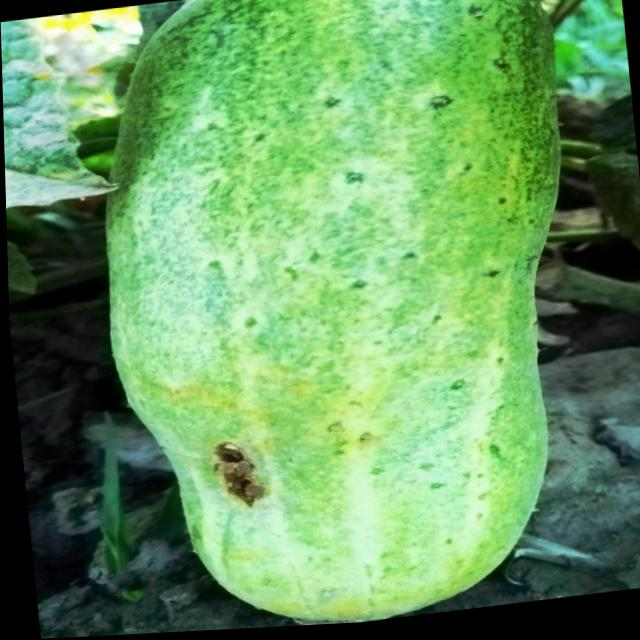Belly-Rot: (203, 427, 269, 523)
